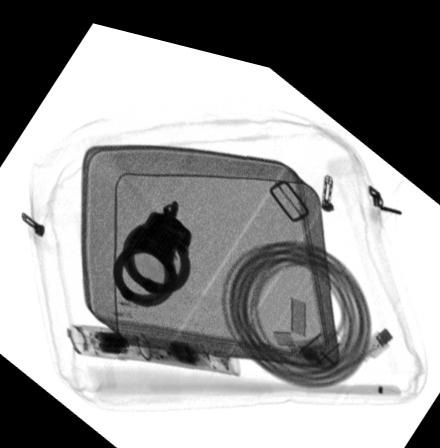Baton: (64, 318, 242, 365)
HandCuffs: (110, 190, 192, 301)
